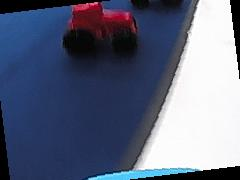Tracktor: (57, 1, 141, 52)
